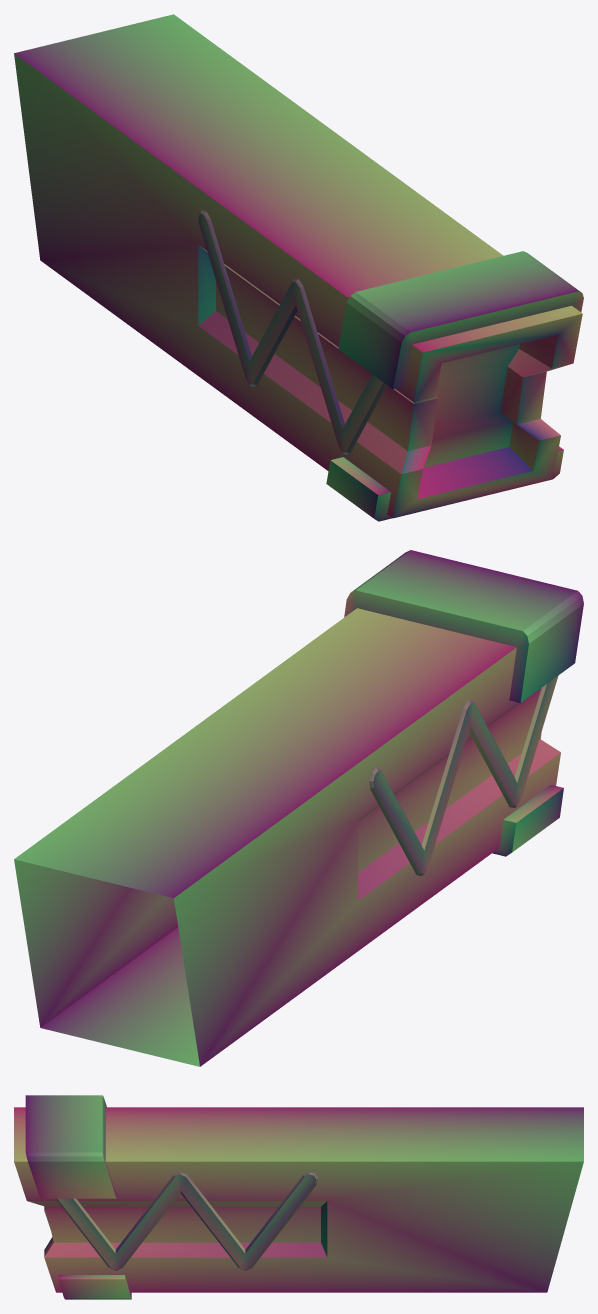
The model's file is Eff_Nostradamus_weapon07.fbx.
3 views of the same model, one above another, from view 1: azimuth 30°, elevation 25°; view 2: azimuth 150°, elevation 25°; view 3: azimuth 270°, elevation 25° (orthographic). The views are drawn at different scales.
Visible parts, largest first — view 1: Eff_Nostradamus_weapon07; view 2: Eff_Nostradamus_weapon07; view 3: Eff_Nostradamus_weapon07.
Boxes of the visible parts, left/top/right/bottom form: Eff_Nostradamus_weapon07: left=14, top=14, right=583, bottom=521; Eff_Nostradamus_weapon07: left=14, top=550, right=583, bottom=1066; Eff_Nostradamus_weapon07: left=14, top=1095, right=583, bottom=1299.
Size of the model in its own units: 0.2277 by 0.2452 by 0.8683.
